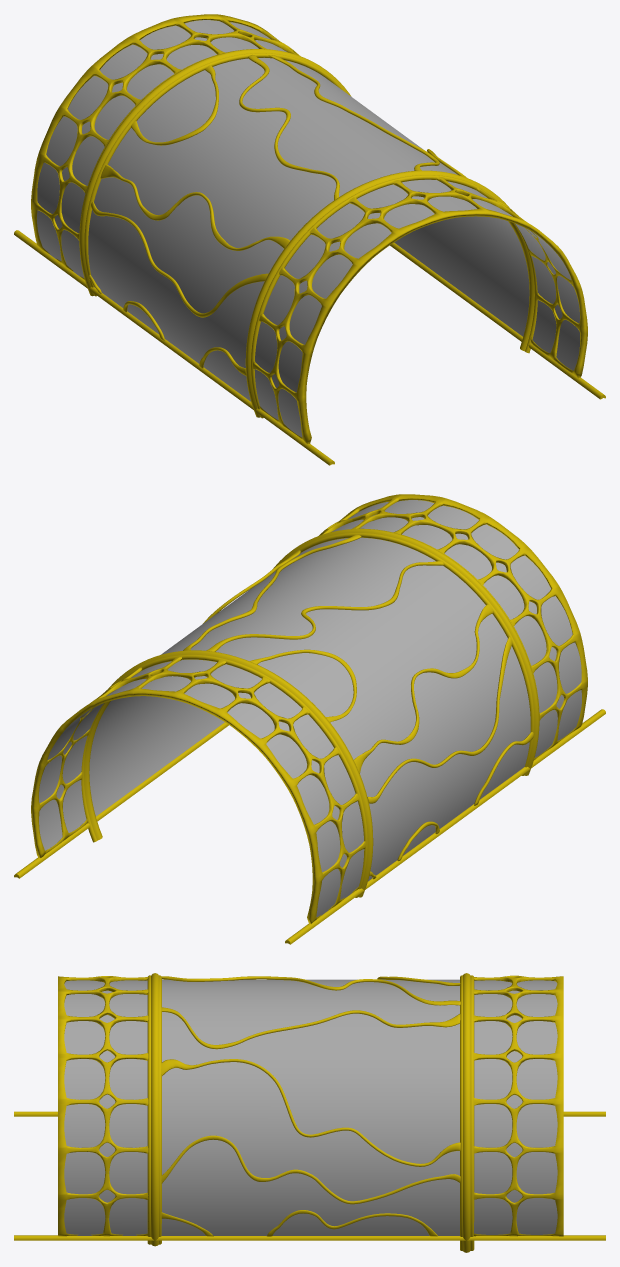
File: LowPolyTunnel.fbx
The picture shows the model from 3 angles, top to bottom: view 1: azimuth 30°, elevation 25°; view 2: azimuth 150°, elevation 25°; view 3: azimuth 270°, elevation 25°; orthographic projection. The views are drawn at different scales.
Parts seen in each view (by area): view 1: polySurface1035; view 2: polySurface1035; view 3: polySurface1035.
Boxes of the visible parts, bbox=[...] form: polySurface1035: bbox=[14, 14, 605, 465]; polySurface1035: bbox=[14, 494, 605, 944]; polySurface1035: bbox=[14, 973, 605, 1252].
Size of the model in its own units: 34.98 by 24.94 by 65.41.
